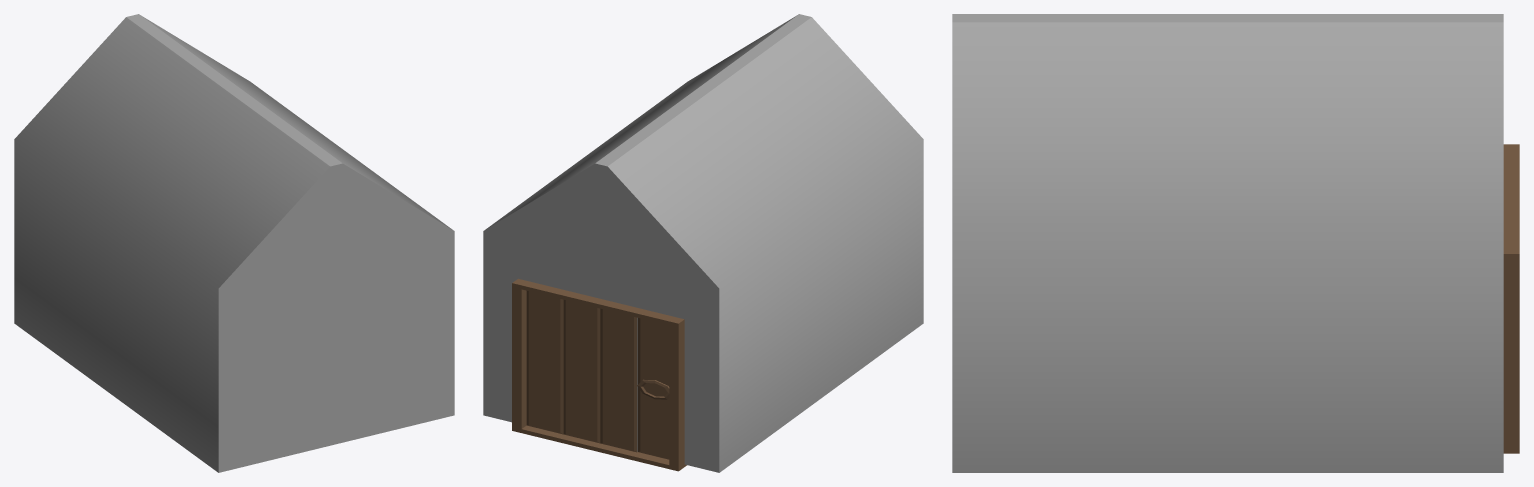
Rendered from smallShed.fbx.
3 views of the same model, side by side, from view 1: azimuth 30°, elevation 25°; view 2: azimuth 150°, elevation 25°; view 3: azimuth 270°, elevation 25° (orthographic). The views are drawn at different scales.
Visible parts, largest first — view 1: polySurface241; view 2: polySurface241; view 3: polySurface241.
Part boxes in pixels (<box>): polySurface241: <box>14,14,454,472</box>; polySurface241: <box>483,14,923,472</box>; polySurface241: <box>952,14,1519,472</box>.
Bounding box in the file's own units: 3.99 × 4.56 × 6.16.
